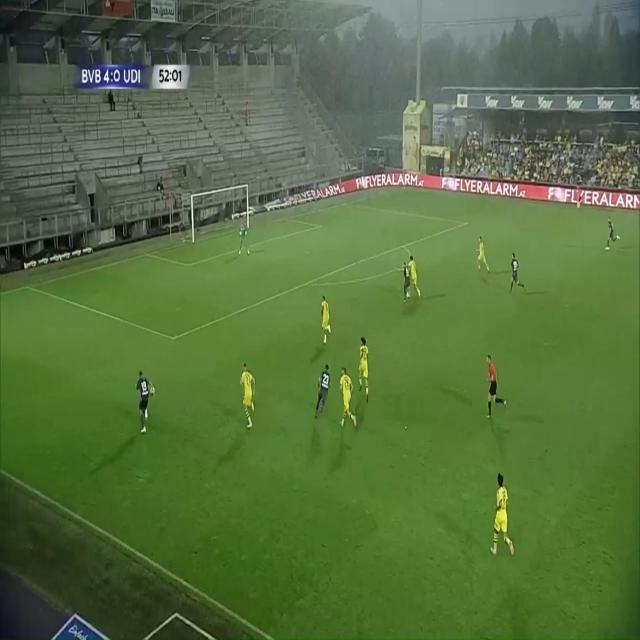ball: (407, 293, 411, 300)
goalkeeper: (235, 211, 253, 266)
player: (489, 463, 519, 562), (235, 359, 263, 435), (129, 370, 157, 441), (334, 360, 360, 431), (312, 363, 333, 431), (355, 332, 375, 403), (316, 294, 337, 345), (407, 255, 425, 304), (507, 254, 527, 296), (604, 211, 619, 257), (475, 233, 489, 281), (400, 262, 411, 305)
referee: (478, 351, 510, 419)
